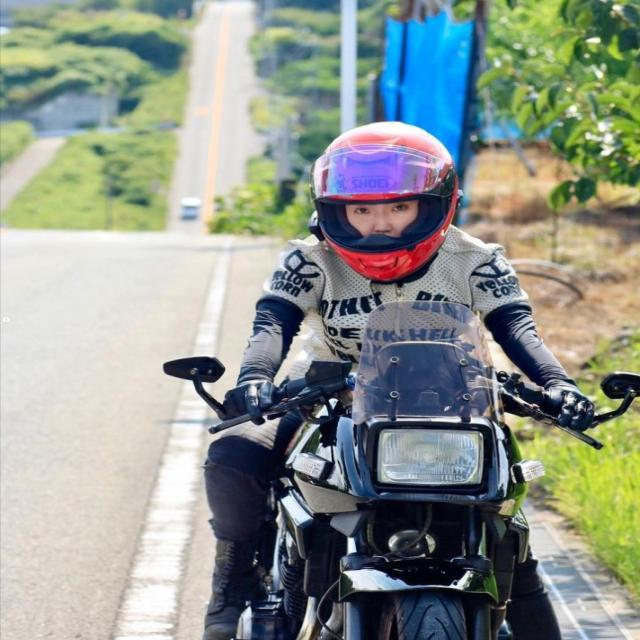helmet: (303, 118, 467, 286)
